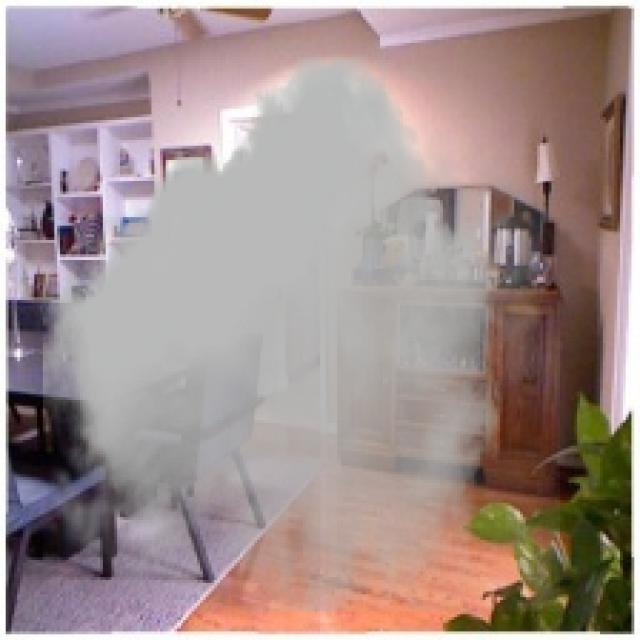smoke: (34, 54, 560, 612)
